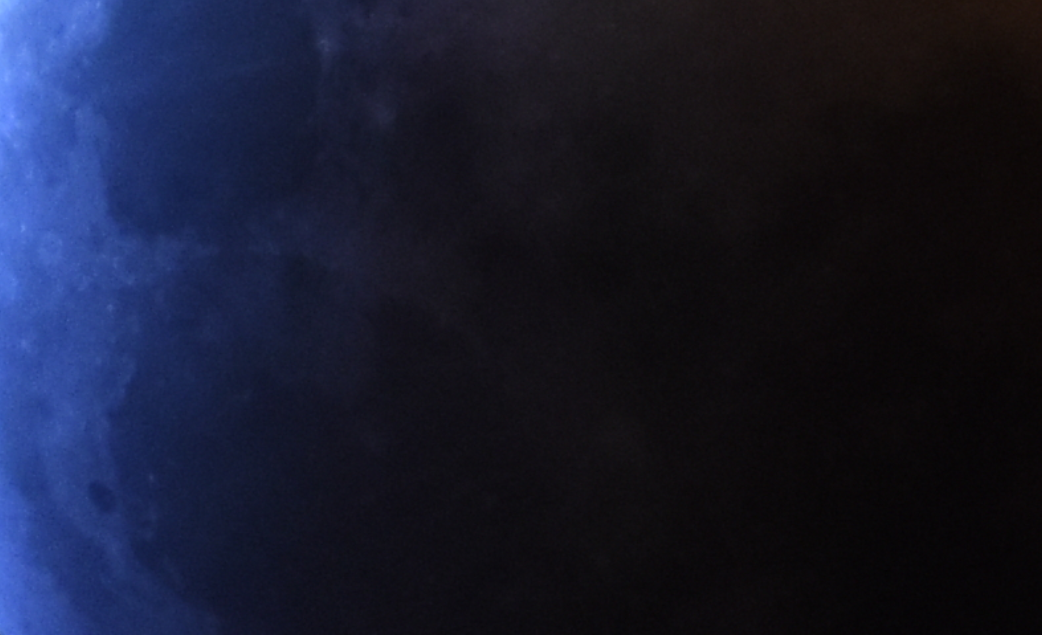crater: (76, 466, 126, 530), (219, 371, 264, 422), (305, 29, 355, 72), (32, 223, 74, 266), (10, 331, 44, 364), (135, 461, 168, 493), (86, 351, 111, 373), (99, 297, 121, 320)
